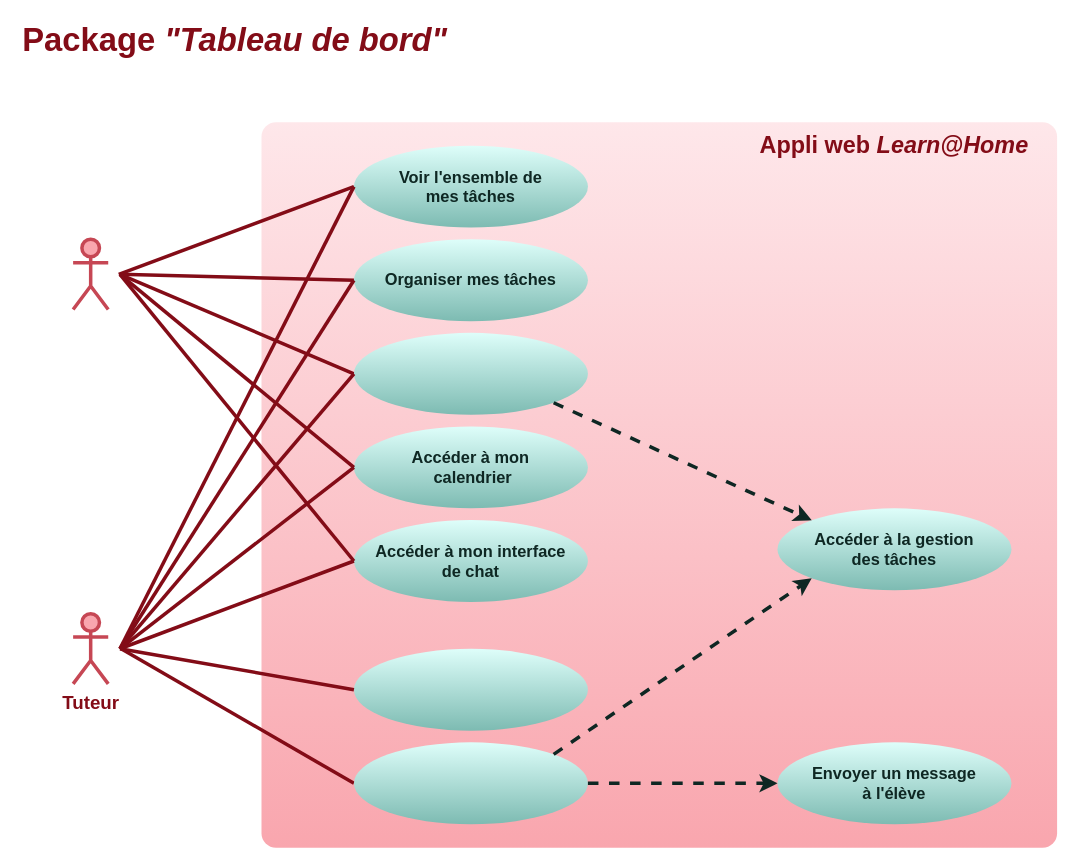
This 1076x867 diagram has some shape labels left out. The centre of each missing label's shape, as x and y in pixels:
"CRUD une tâche personnelle" goes at pixel 470 373.
"CRUD une tâche pour un de mes élèves" goes at pixel 470 783.
"Elève / Parent d'élève" goes at pixel 90 274.
"Voir les tâches d'un de mes élèves" goes at pixel 470 689.
